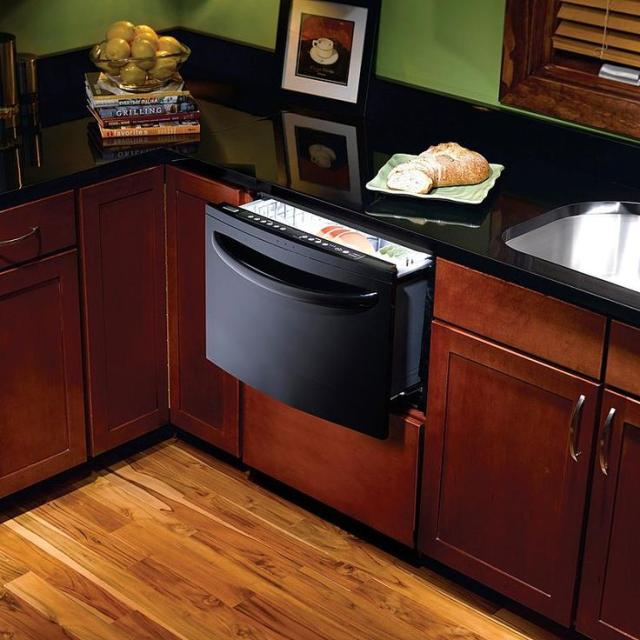dishwasher: (199, 193, 433, 445)
